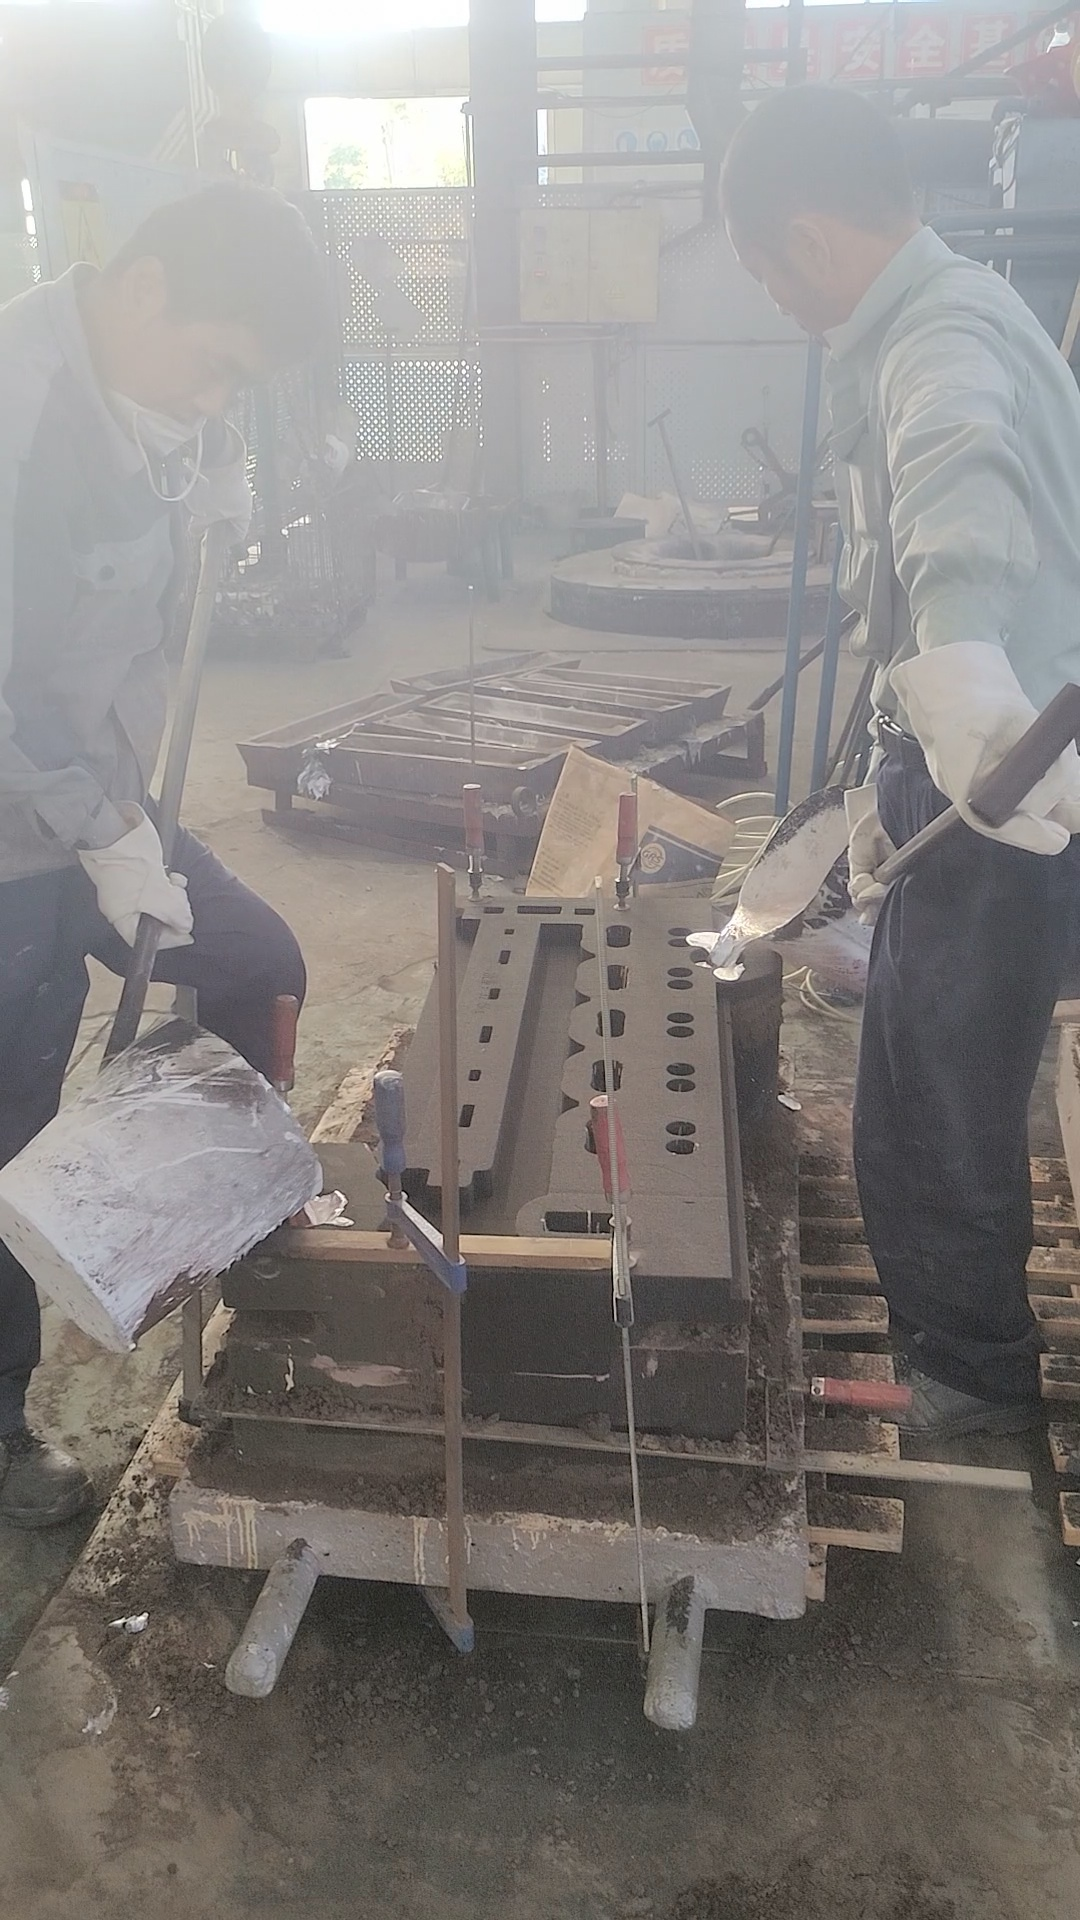pouring hole: (258, 1185, 352, 1232), (686, 944, 746, 973)
